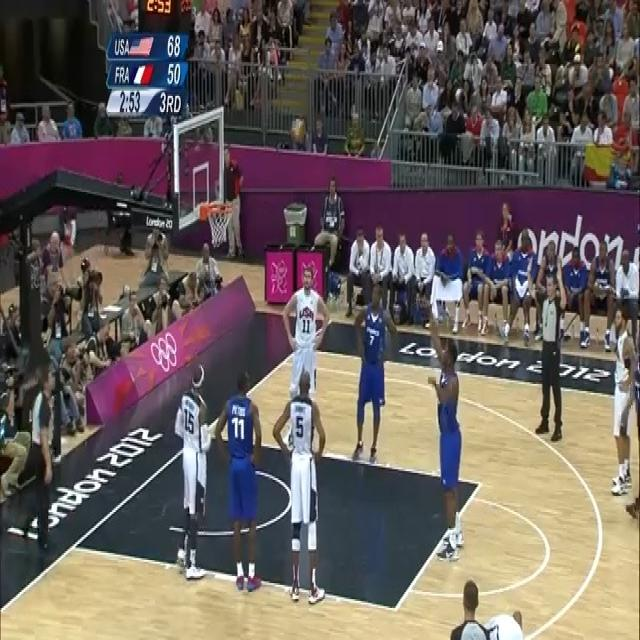basketball: (291, 116, 307, 150)
hoop: (207, 201, 232, 248)
